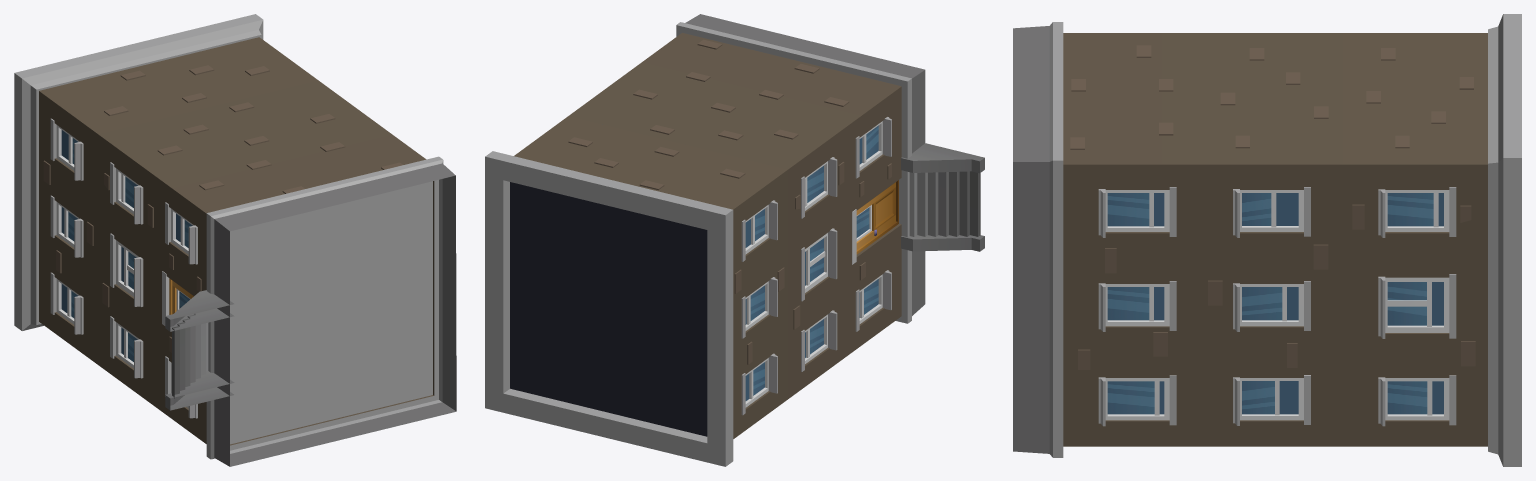
File: Building_2_4_G.fbx
3 views of the same model, side by side, from view 1: azimuth 30°, elevation 25°; view 2: azimuth 150°, elevation 25°; view 3: azimuth 270°, elevation 25° (orthographic). The views are drawn at different scales.
Visible parts, largest first — view 1: Building_2_4_G; view 2: Building_2_4_G; view 3: Building_2_4_G.
Part boxes in pixels (box(x1,y1,x2,y2)): Building_2_4_G: box(14, 14, 456, 466); Building_2_4_G: box(485, 14, 984, 466); Building_2_4_G: box(1013, 14, 1521, 466).
Bounding box in the file's own units: 754 × 620 × 926.
